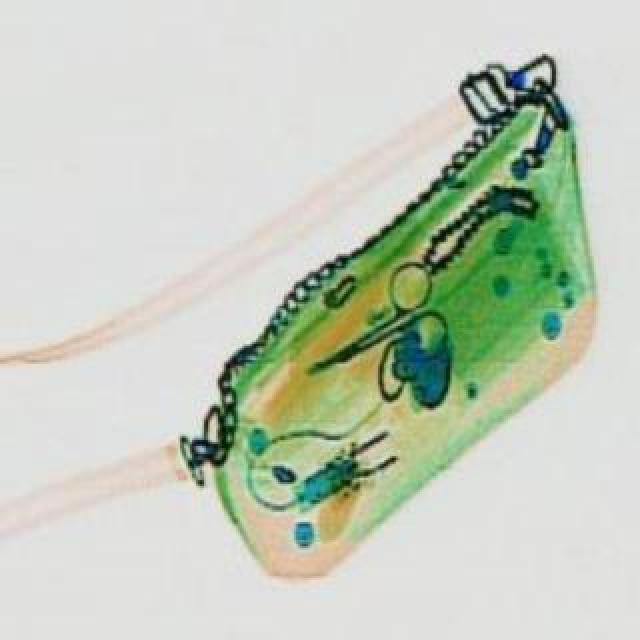pliers: (276, 252, 468, 410)
